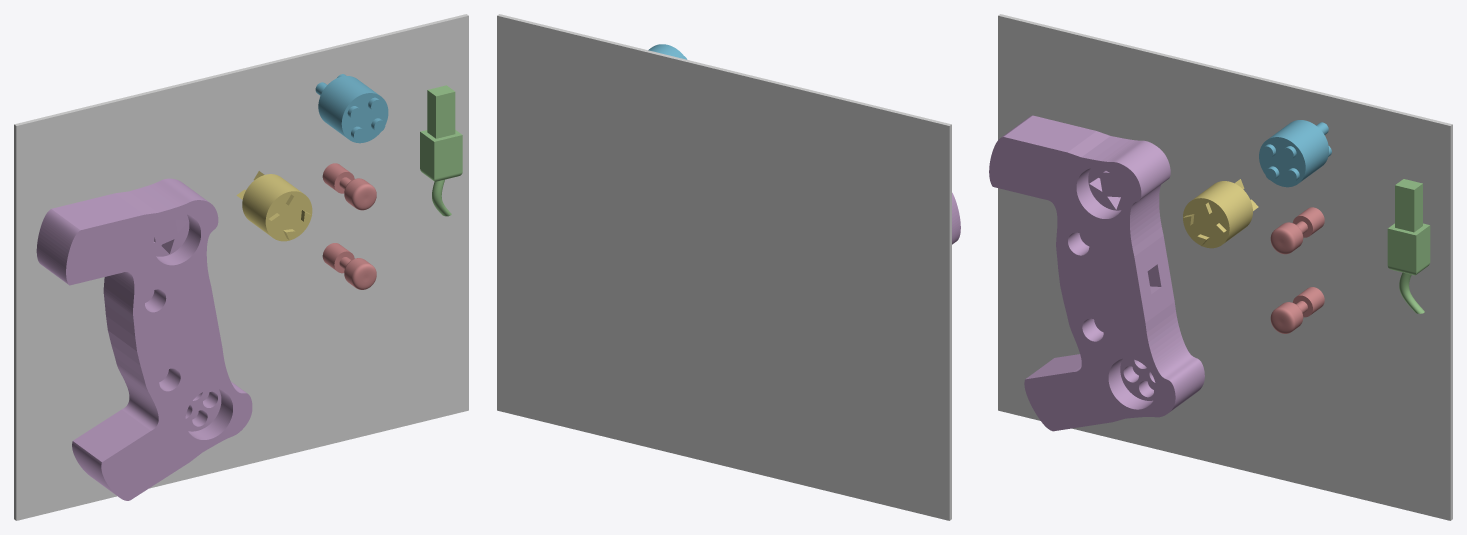
The model's file is pickup_layout.glb.
3 views of the same model, side by side, from view 1: azimuth 30°, elevation 25°; view 2: azimuth 150°, elevation 25°; view 3: azimuth 330°, elevation 25° (orthographic).
Parts seen in each view (by area): view 1: world, 3.obj, 4.obj, 2.obj, 1.obj, 5.obj, 0.obj; view 2: world; view 3: world, 3.obj, 4.obj, 2.obj, 1.obj, 0.obj, 5.obj.
Part boxes in pixels (bbox=[...]): world: bbox=[14, 14, 468, 520]; 3.obj: bbox=[36, 178, 252, 500]; 4.obj: bbox=[420, 85, 462, 216]; 2.obj: bbox=[315, 74, 388, 143]; 1.obj: bbox=[236, 171, 312, 241]; 5.obj: bbox=[322, 163, 376, 210]; 0.obj: bbox=[322, 243, 376, 289]; world: bbox=[497, 14, 951, 520]; world: bbox=[998, 14, 1452, 520]; 3.obj: bbox=[989, 115, 1204, 431]; 4.obj: bbox=[1387, 179, 1430, 313]; 2.obj: bbox=[1259, 120, 1331, 187]; 1.obj: bbox=[1183, 179, 1258, 248]; 0.obj: bbox=[1270, 287, 1324, 333]; 5.obj: bbox=[1270, 207, 1324, 254].
Size of the model in its own units: 22.29 by 18.6 by 3.2.
